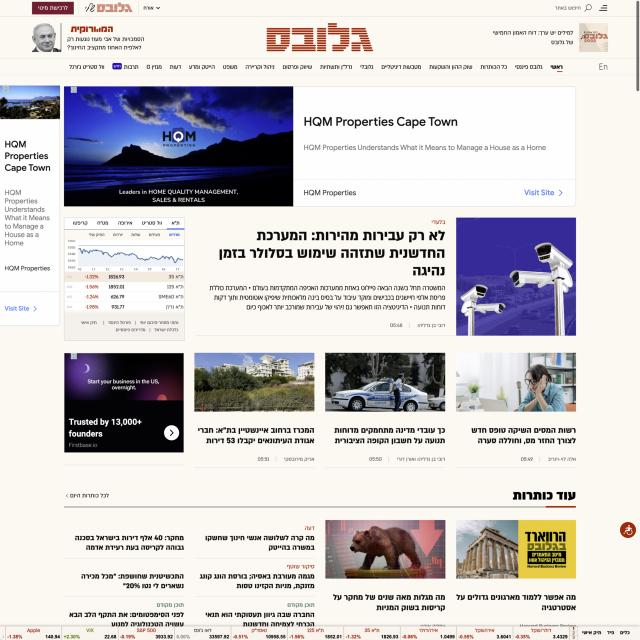logo: (262, 17, 378, 56)
navigation: (54, 60, 616, 74)
